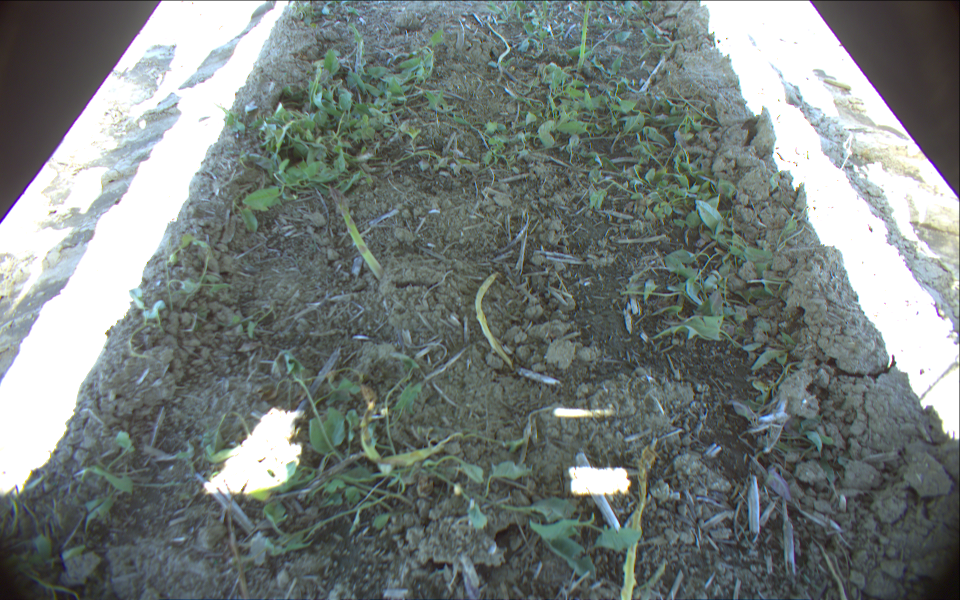aspa: (322, 183, 388, 287), (571, 1, 593, 79)
